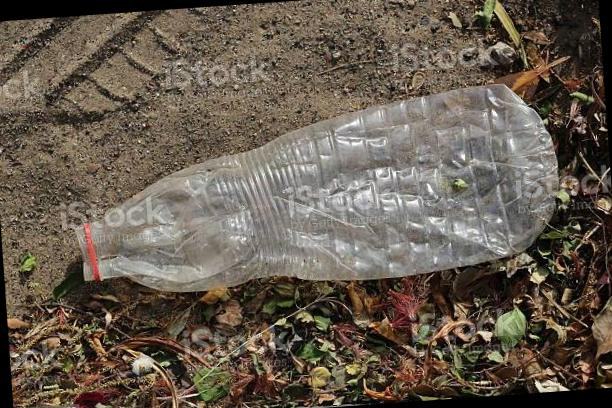plastic: (53, 80, 556, 338)
